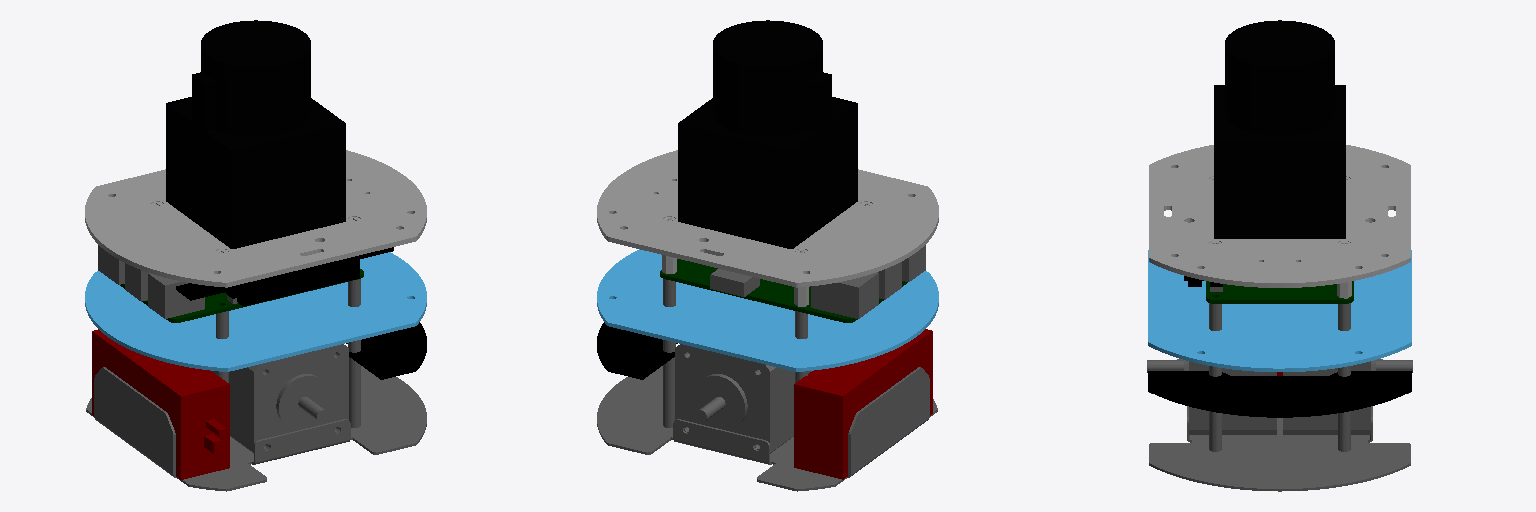
The robot description file, URDF, robot "raspimouse":
<?xml version="1.0"?>
<robot name="raspimouse">
  <link name="base_footprint"/>

  <joint name="base_joint" type="fixed">
    <origin xyz="0 0 0.00185"/>
    <parent link="base_footprint"/>
    <child link="base_link"/>
  </joint>

  <link name="base_link">
     <visual>
      <geometry>
        <mesh filename="package://raspimouse_description/meshes/dae/body/raspimouse_body.dae"/>
      </geometry>
    </visual>
  </link>

  <joint name="left_wheel_joint" type="continuous">
    <origin xyz="0 0.0425 0.02215" rpy="-1.57 0 0"/>
    <axis xyz="0 0 1"/> 
    <parent link="base_link"/>
    <child link="left_wheel_link"/>
  </joint>
  
  <link name="left_wheel_link">
     <visual>
      <geometry>
        <mesh filename="package://raspimouse_description/meshes/dae/wheel/raspimouse_wheel.dae"/>
      </geometry>
    </visual>
  </link>
  
  <joint name="right_wheel_joint" type="continuous">
    <origin xyz="0 -0.0425 0.02215" rpy="1.57 0 0"/>
    <axis xyz="0 0 1"/> 
    <parent link="base_link"/>
    <child link="right_wheel_link"/>
  </joint>
  
  <link name="right_wheel_link">
     <visual>
      <geometry>
        <mesh filename="package://raspimouse_description/meshes/dae/wheel/raspimouse_wheel.dae"/>
      </geometry>
    </visual>
  </link>
  
  <joint name="urg_mount_joint" type="fixed">
    <origin xyz="0 0 0" rpy="0 0 0"/>
    <parent link="base_link"/>
    <child link="urg_mount_link"/>
  </joint>
  
  <link name="urg_mount_link">
     <visual>
      <geometry>
        <mesh filename="package://raspimouse_description/meshes/dae/body/raspimouse_top_plate.dae"/>
      </geometry>
    </visual>
  </link>
  
  <joint name="urg_joint" type="fixed">
    <origin xyz="0.0 0.0 0.14060" rpy="0 0 0" />
    <parent link="urg_mount_link"/>
    <child link="lidar_link"/>
  </joint>
  
  <link name="lidar_link">
     <visual>
      <geometry>
        <mesh filename="package://raspimouse_description/meshes/dae/sensor/urg_optical_axis_center_origin.dae"/>
      </geometry>
    </visual>
  </link>

</robot>

--- Facts derived from the render (not from the file) ---
Views: 3 orthographic renders of the robot side by side, from view 1: azimuth 30°, elevation 25°; view 2: azimuth 150°, elevation 25°; view 3: azimuth 270°, elevation 25°.
Robot: raspimouse — 6 links, 5 joints (2 continuous, 3 fixed); root link base_footprint; default pose: every joint at zero.
Links seen in each view (by area): view 1: base_link, lidar_link, urg_mount_link; view 2: base_link, lidar_link, urg_mount_link; view 3: base_link, lidar_link, urg_mount_link.
Link boxes in pixels (x1,y1,x2,y2): base_link: [85, 245, 426, 491]; lidar_link: [166, 20, 345, 248]; urg_mount_link: [85, 150, 426, 287]; base_link: [597, 245, 938, 491]; lidar_link: [678, 20, 857, 248]; urg_mount_link: [597, 150, 938, 306]; base_link: [1147, 250, 1412, 491]; lidar_link: [1214, 20, 1345, 238]; urg_mount_link: [1149, 145, 1410, 298].
Size in the robot's own frame: 0.13 by 0.101 by 0.1577 metres.
Meshes: 4 distinct files referenced, 3 mesh visuals loaded (3 Collada DAE); not drawn: 2 (reference not matched to a file when rendering).